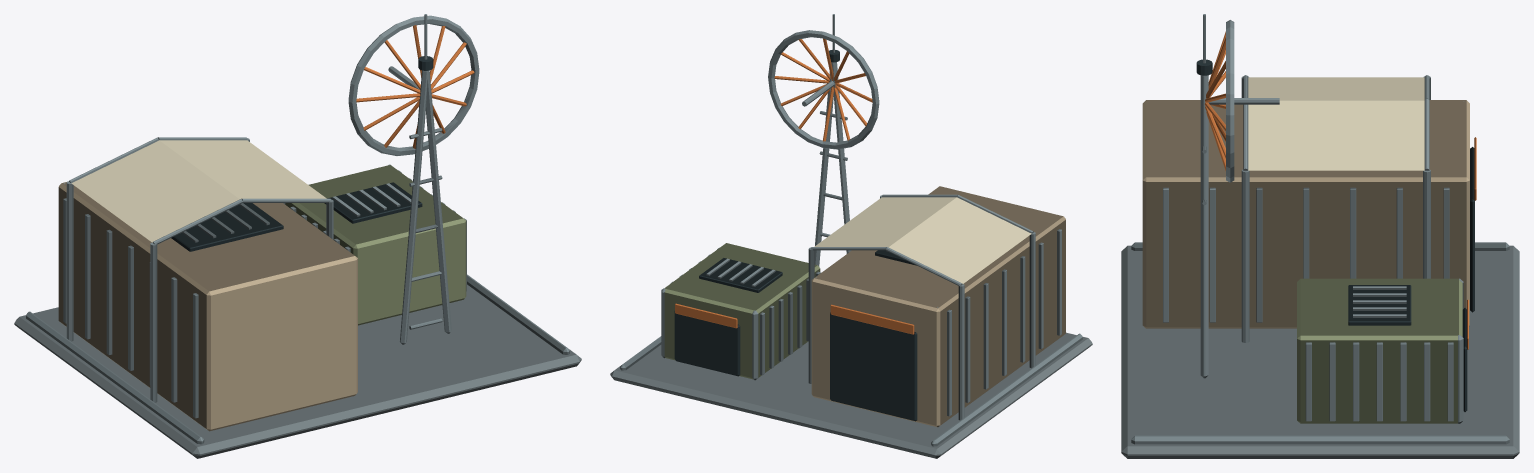
The model's file is RelayWorkshop.glb.
3 renders of one model, left to right at view 1: azimuth 30°, elevation 25°; view 2: azimuth 150°, elevation 25°; view 3: azimuth 270°, elevation 25°, orthographic. The views are drawn at different scales.
Visible parts, largest first — view 1: export_RelayWorkshop_GravelPad, export_RelayWorkshop_DishRim; view 2: export_RelayWorkshop_GravelPad, export_RelayWorkshop_DishRim; view 3: export_RelayWorkshop_GravelPad, export_RelayWorkshop_DishRim.
Part boxes in pixels (bbox=[...]): export_RelayWorkshop_GravelPad: bbox=[14, 14, 581, 458]; export_RelayWorkshop_DishRim: bbox=[348, 15, 479, 155]; export_RelayWorkshop_GravelPad: bbox=[610, 14, 1092, 458]; export_RelayWorkshop_DishRim: bbox=[768, 30, 879, 149]; export_RelayWorkshop_GravelPad: bbox=[1121, 14, 1519, 458]; export_RelayWorkshop_DishRim: bbox=[1204, 20, 1279, 182].
Size of the model in its own units: 5.5 by 4.78 by 4.5.
